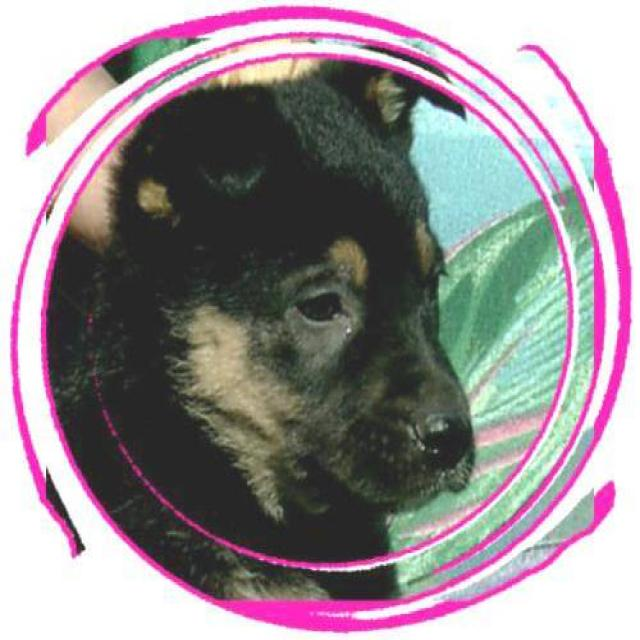dog: (42, 35, 478, 601)
